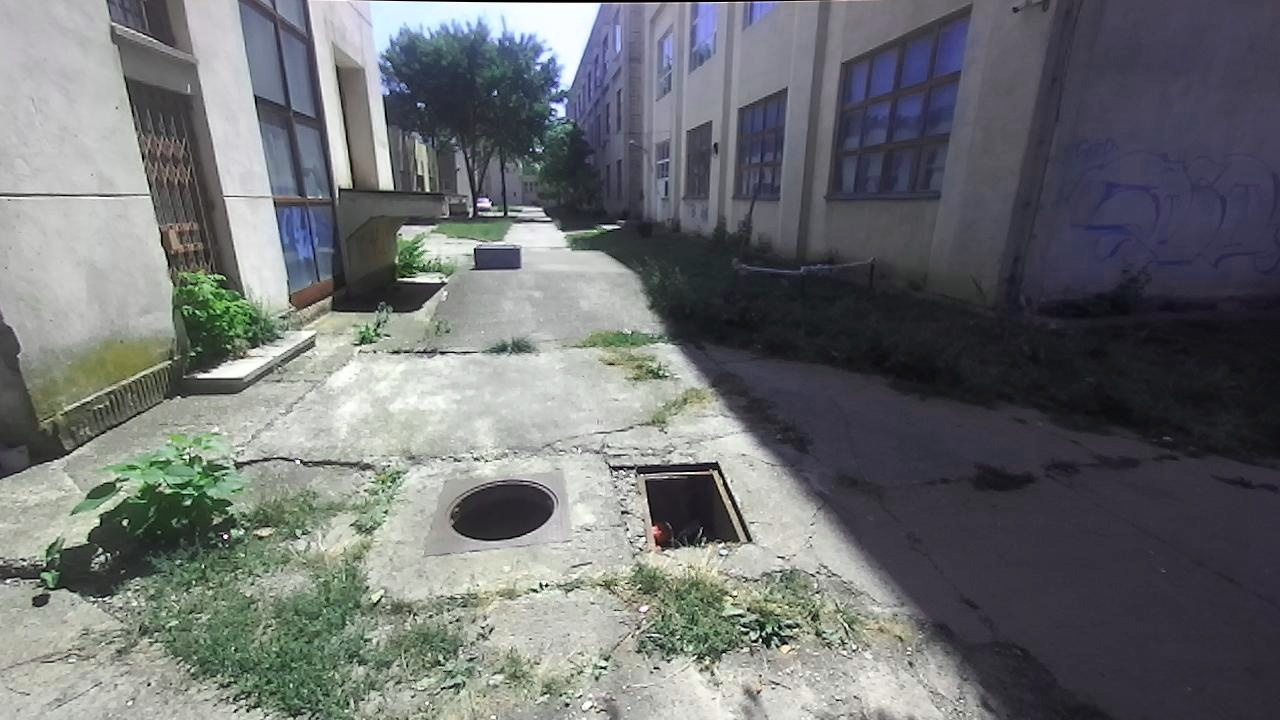drain: (610, 457, 746, 549), (443, 477, 563, 541)
